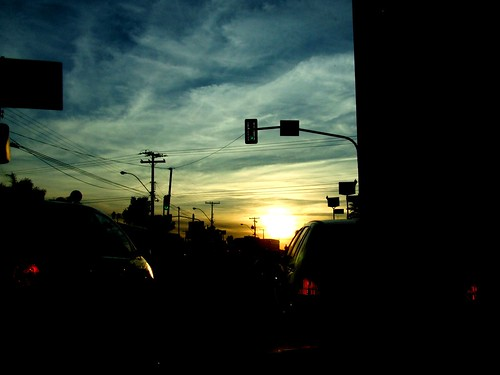power pole: (132, 145, 174, 217), (197, 194, 222, 228), (246, 213, 262, 239)
sky: (1, 1, 348, 212)
